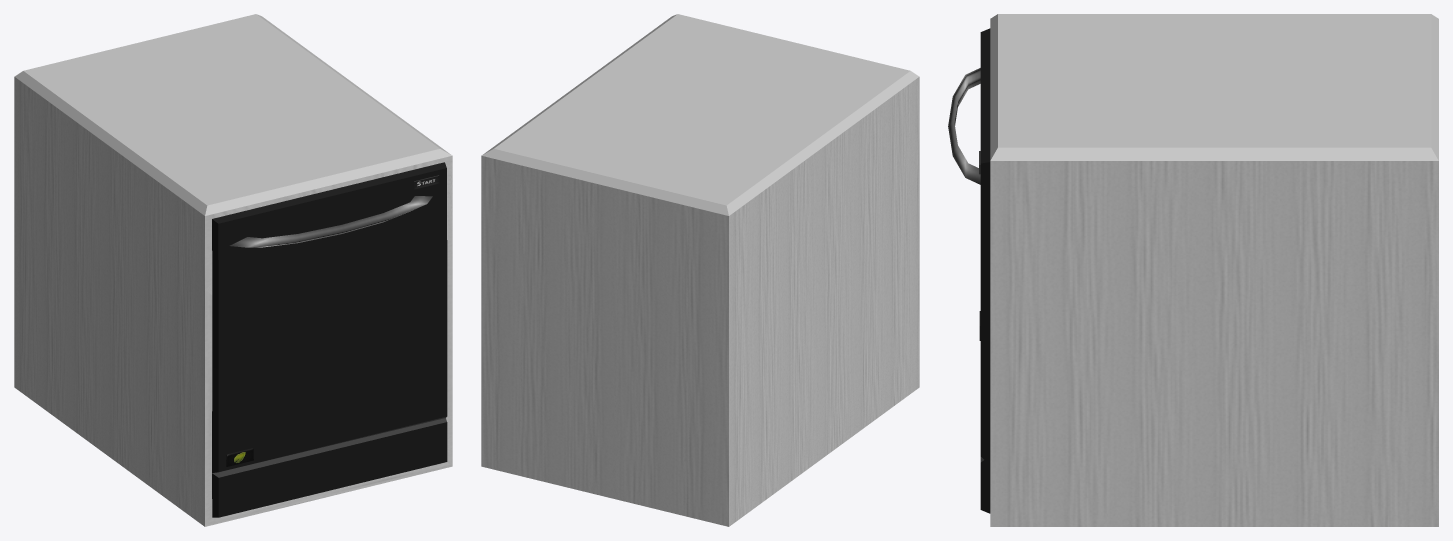
File: Dishwasher_B.FBX
The picture shows the model from 3 angles, left to right: view 1: azimuth 30°, elevation 25°; view 2: azimuth 150°, elevation 25°; view 3: azimuth 270°, elevation 25°; orthographic projection. The views are drawn at different scales.
Parts seen in each view (by area): view 1: Dishwasher; view 2: Dishwasher; view 3: Dishwasher.
Boxes of the visible parts, x1=… form: Dishwasher: x1=14, y1=14, x2=452, y2=526; Dishwasher: x1=481, y1=14, x2=919, y2=526; Dishwasher: x1=948, y1=14, x2=1438, y2=526.
Bounding box in the file's own units: 112 × 138 × 164.
